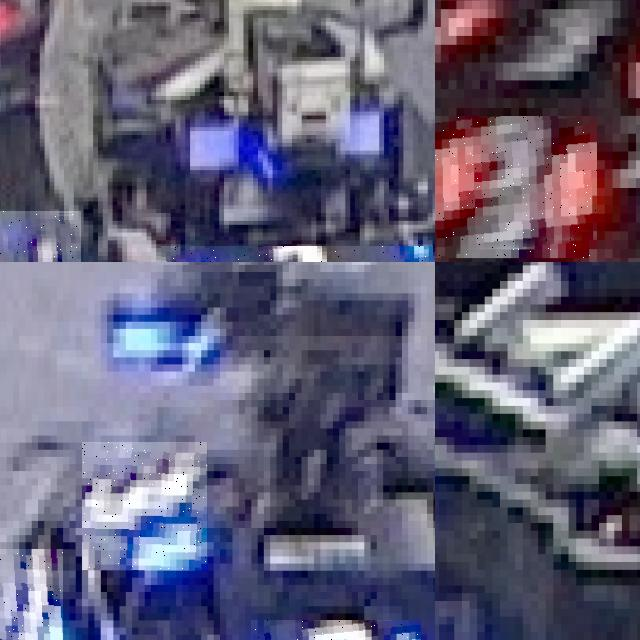B1: (161, 246, 432, 262), (0, 211, 81, 262)
B3: (82, 442, 207, 570), (0, 549, 63, 640)
R3: (435, 116, 596, 258)
